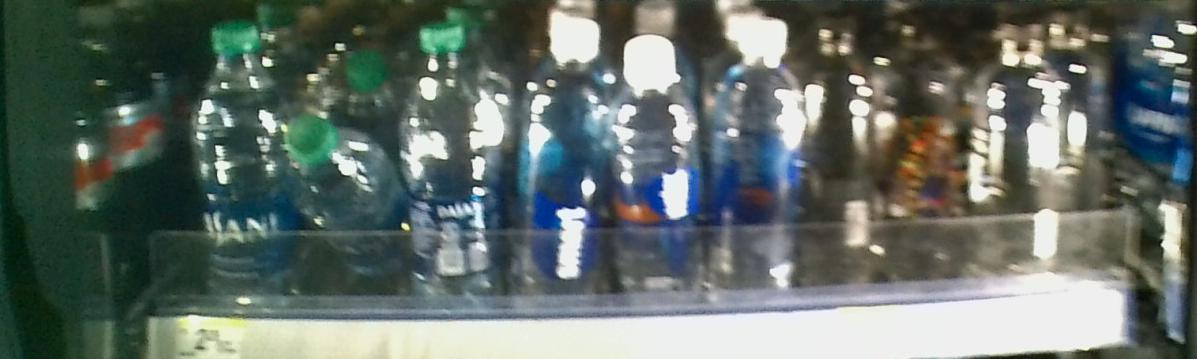bottle: (399, 20, 508, 315), (187, 15, 286, 314), (517, 16, 613, 309), (716, 15, 810, 305), (620, 30, 710, 309), (293, 98, 391, 316)
